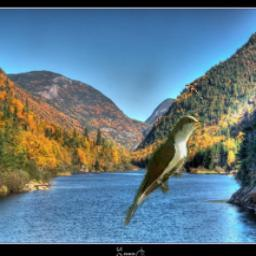Cuckoo: (124, 112, 204, 226), (184, 83, 204, 100)
